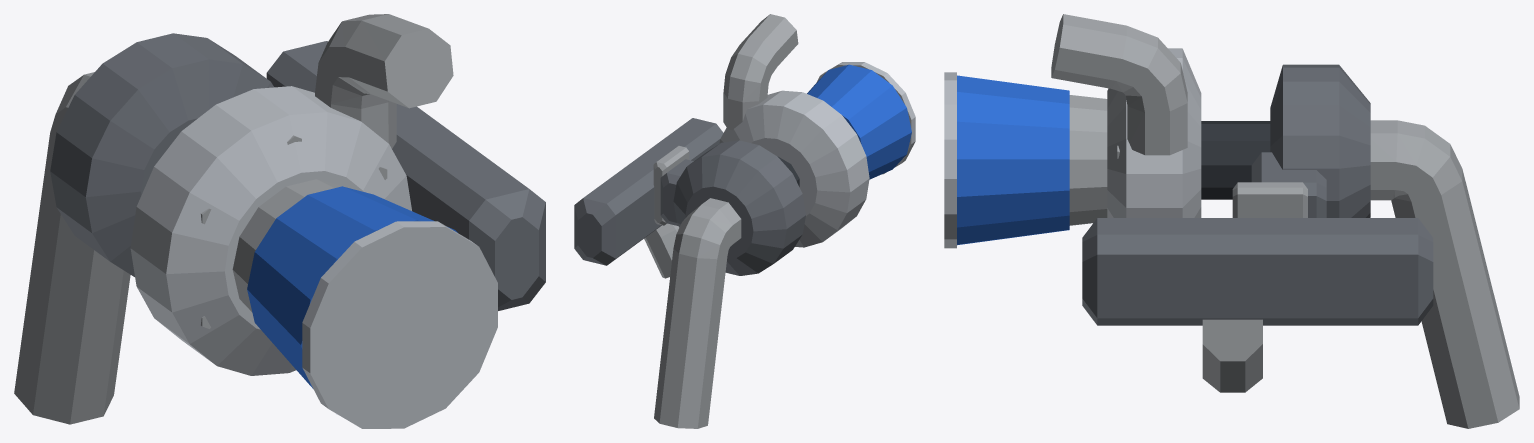
File: turbo_medium.glb
The picture shows the model from 3 angles, left to right: view 1: azimuth 30°, elevation 25°; view 2: azimuth 150°, elevation 25°; view 3: azimuth 270°, elevation 25°; orthographic projection. The views are drawn at different scales.
Visible parts, largest first — view 1: model; view 2: model; view 3: model.
Boxes of the visible parts, <box> form: model: <box>14,14,545,428</box>; model: <box>574,14,915,428</box>; model: <box>944,14,1519,428</box>.
Bounding box in the file's own units: 0.2687 × 0.3801 × 0.4588.
2 materials, 1 textured.
